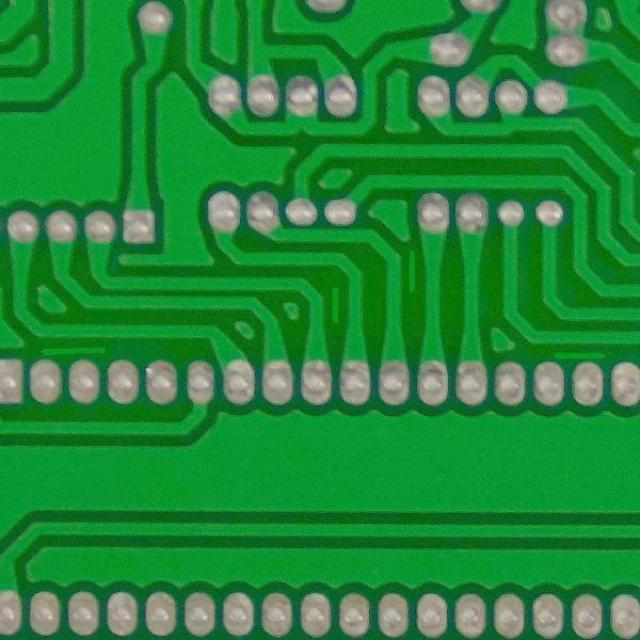Spurious_Cooper: (34, 342, 109, 358), (404, 244, 422, 296), (324, 280, 344, 326), (548, 347, 609, 362)
